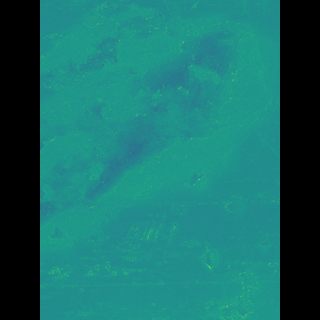Loch: (69, 0, 246, 247)
